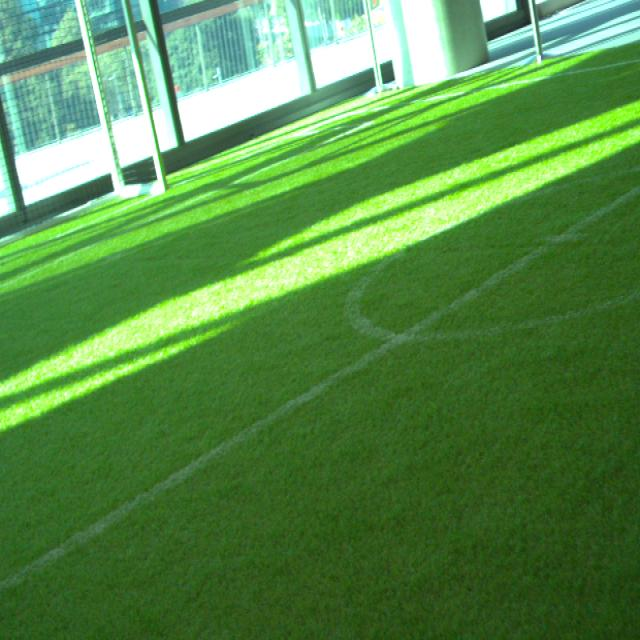goalpost: (117, 0, 169, 193)
